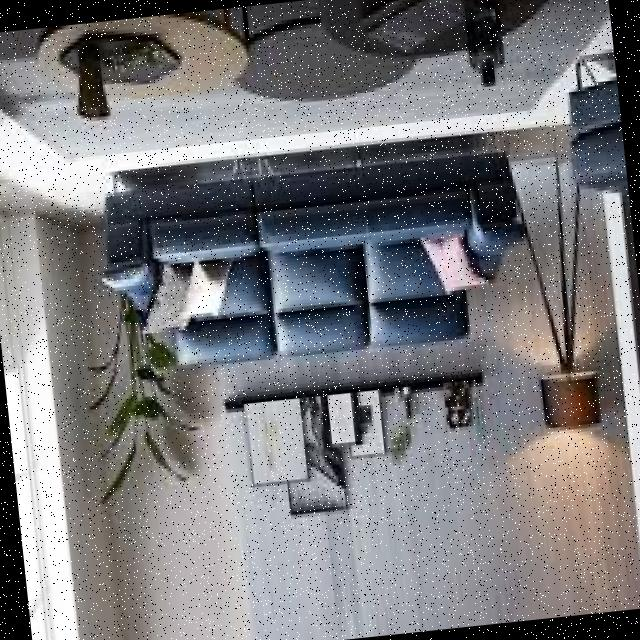Sofa: (92, 127, 530, 411)
